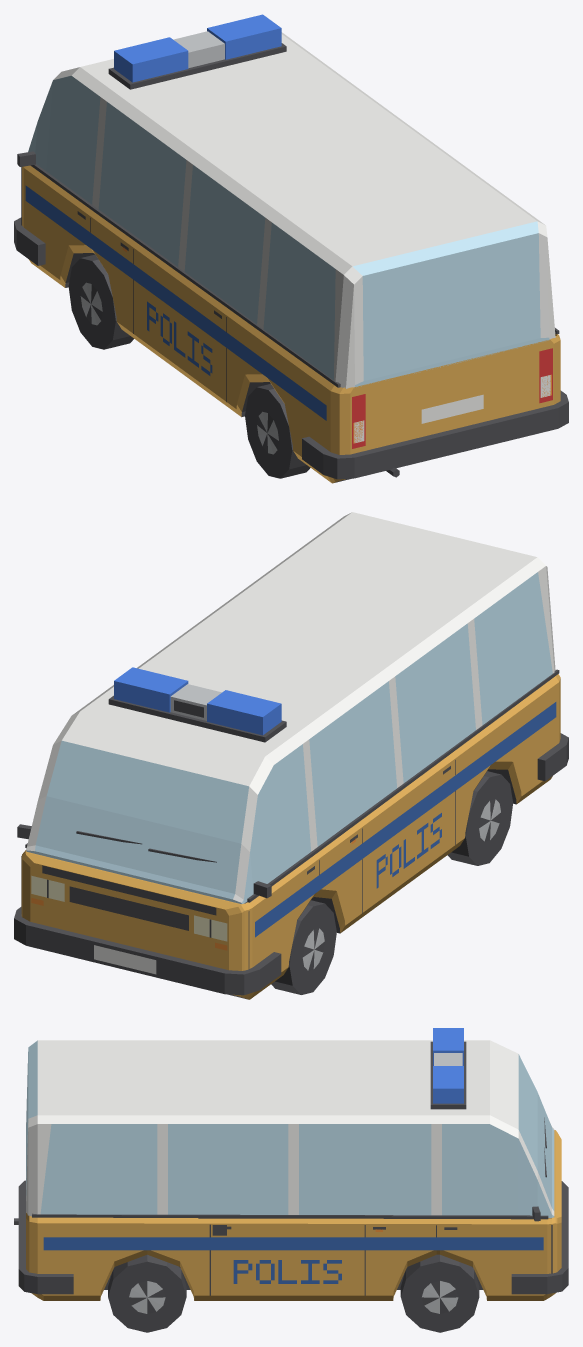
File: police_van.glb
3 views of the same model, one above another, from view 1: azimuth 30°, elevation 25°; view 2: azimuth 150°, elevation 25°; view 3: azimuth 270°, elevation 25° (orthographic). The views are drawn at different scales.
Parts seen in each view (by area): view 1: body, door_FL, wheel_FL, wheel_RL, beacon_L, beacon_R; view 2: body, door_FL, wheel_RL, wheel_FL, beacon_L, beacon_R; view 3: body, door_FR, wheel_FR, wheel_RR, beacon_R, beacon_L.
Boxes of the visible parts, x1,y1,x2,y2 form: body: (14,31,568,483); door_FL: (21,75,103,287); wheel_FL: (68,254,133,349); wheel_RL: (245,384,310,478); beacon_L: (114,37,188,82); beacon_R: (207,14,281,59); body: (14,512,568,998); door_FL: (242,742,319,999); wheel_RL: (447,771,513,865); wheel_FL: (271,900,336,994); beacon_L: (207,690,281,735); beacon_R: (114,667,188,712); body: (14,1040,568,1300); door_FR: (436,1124,551,1300); wheel_FR: (400,1254,479,1332); wheel_RR: (108,1254,186,1332); beacon_R: (433,1066,463,1103); beacon_L: (433,1028,463,1065).
Size of the model in its own units: 2.03 by 2.13 by 4.66.
